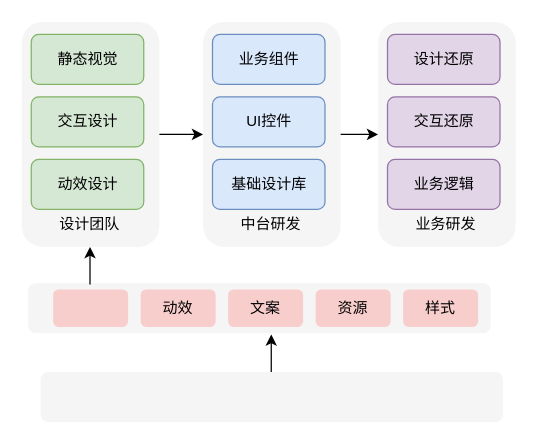
The diagram is 536 pixels wide and 443 high, and some of its shapes have lost their labels. Each missing label, with the centre of its shape:
控件: point 90,307
设计规范: point 271,396
